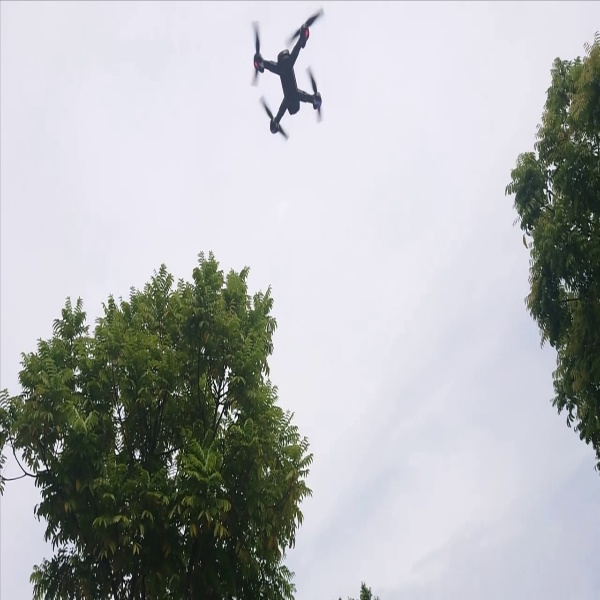drone: (238, 3, 332, 143)
